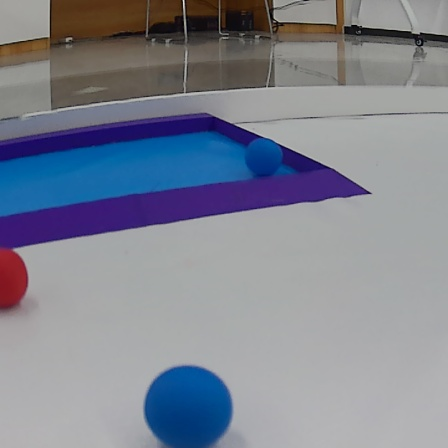blue: (145, 356, 237, 448), (237, 132, 288, 180)
blue_aim: (0, 105, 376, 254)
red: (0, 245, 32, 316)
